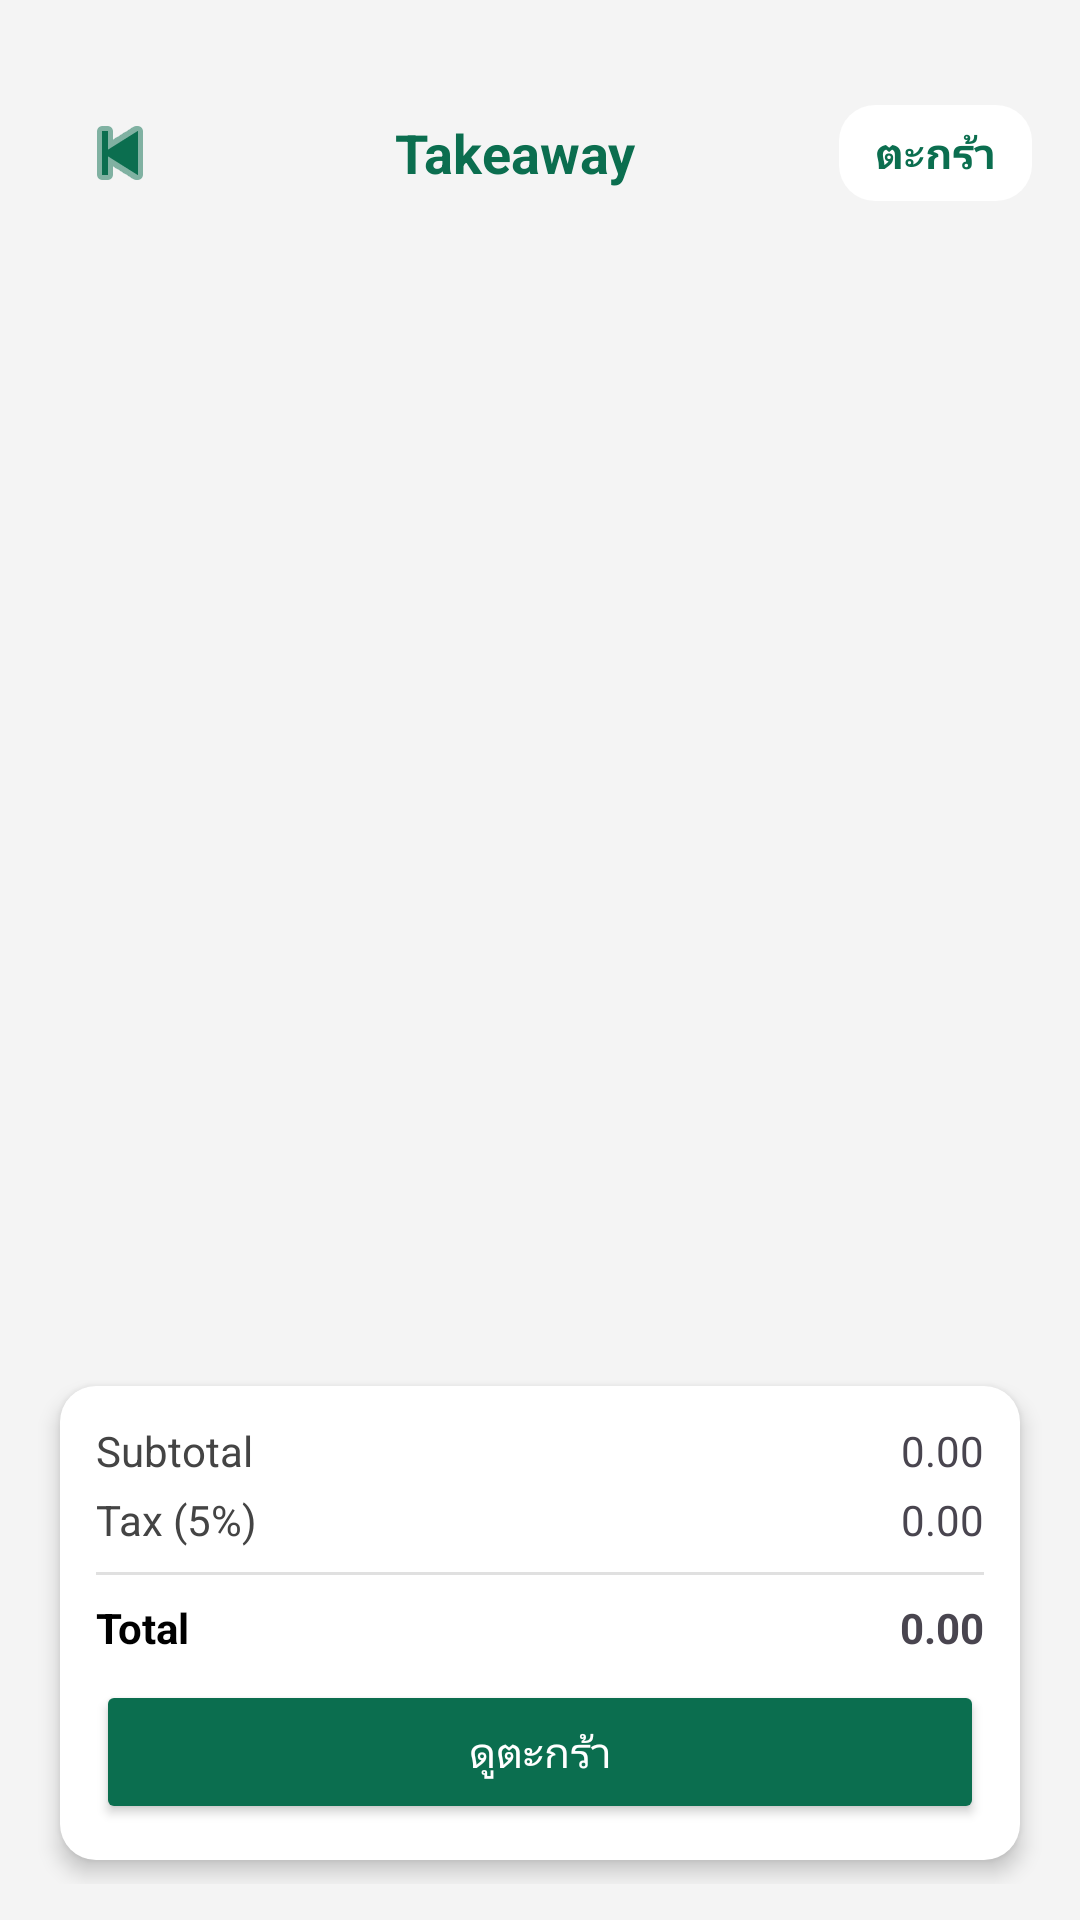

Icons on this 1080w x 1920h Android screen, each with its box as [x1=x1, y1=y1, x2=x2, y2=y2]:
back: [x1=97, y1=126, x2=143, y2=180]
